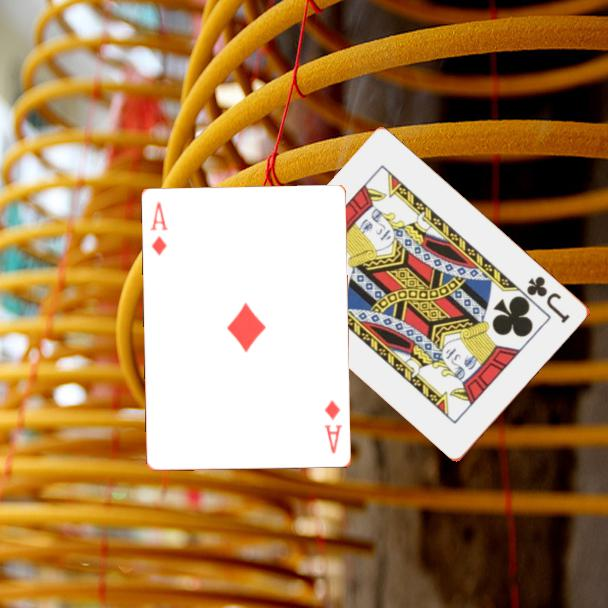c11: (523, 272, 573, 326)
d01: (321, 396, 345, 456), (147, 198, 171, 258)
